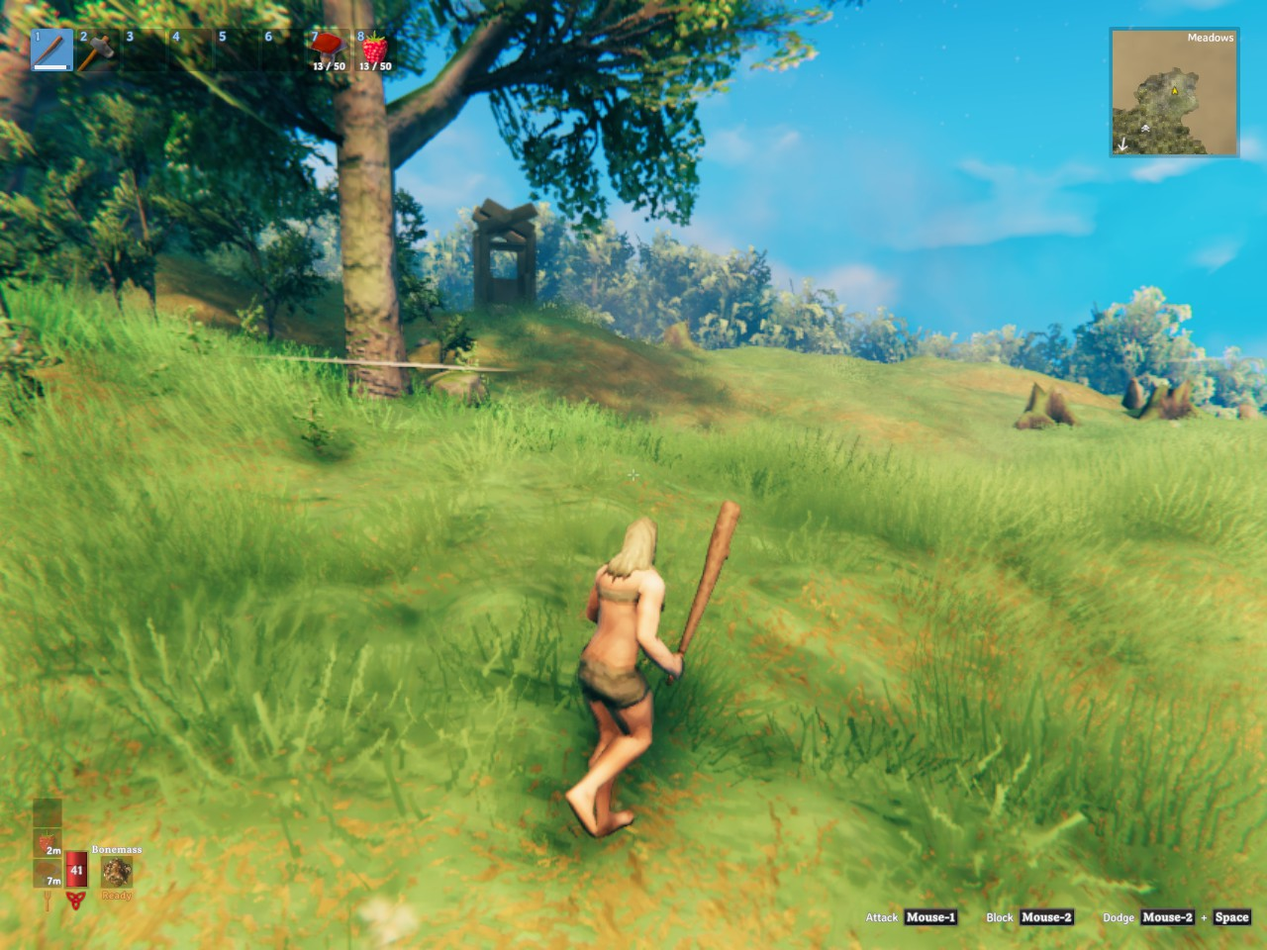House: (469, 198, 541, 314)
